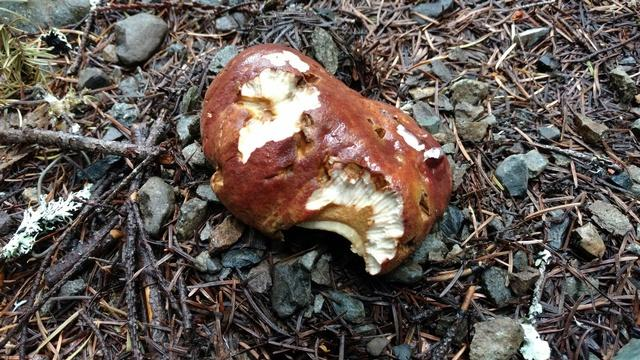edible_mushroom: (198, 42, 453, 276)
